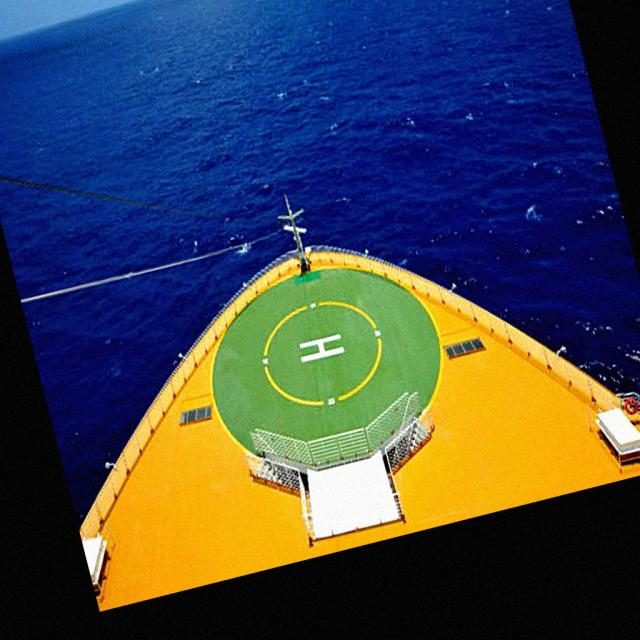helipad: (258, 296, 386, 409)
